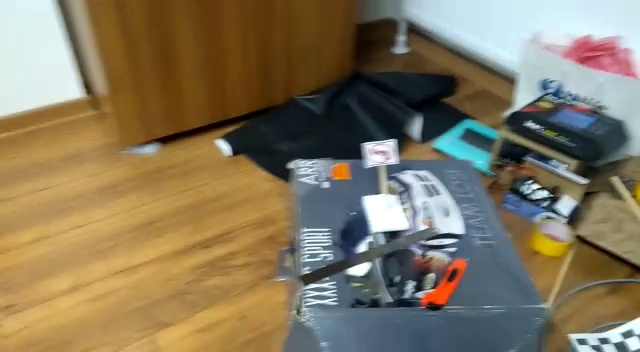sola_donulmez: (364, 142, 396, 167)
